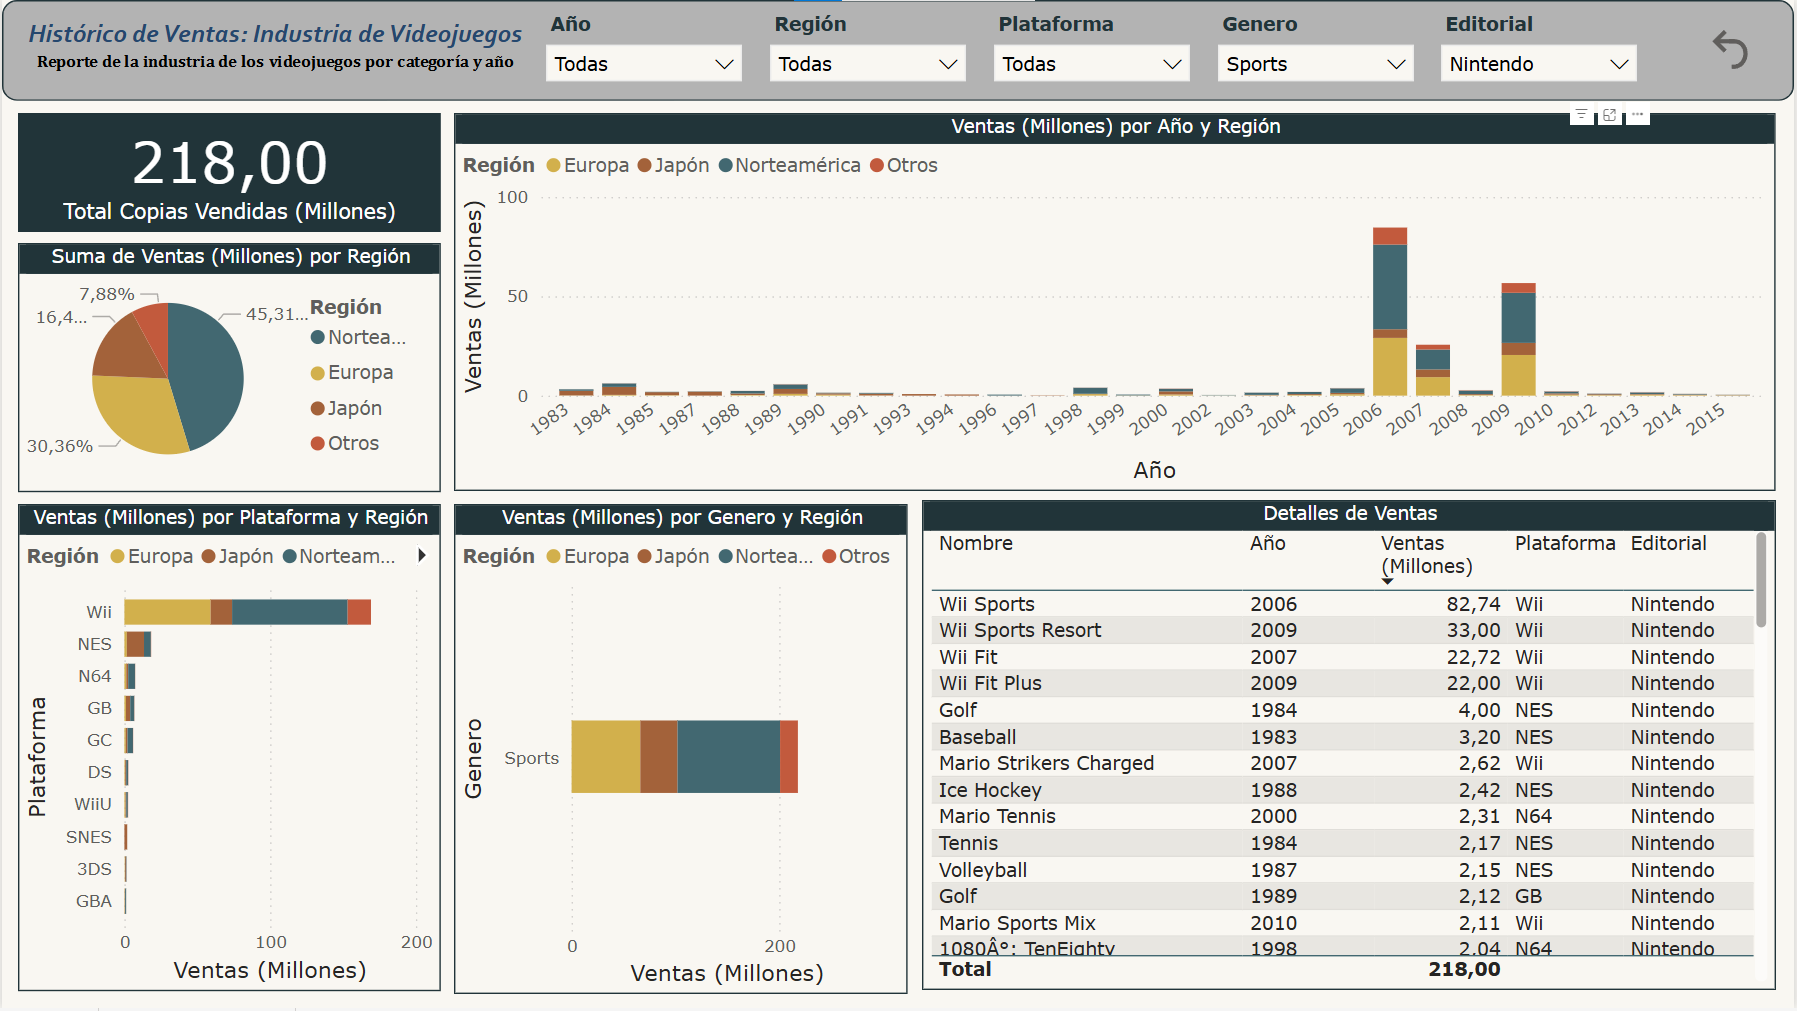

The page's visual inventory and layout, read from the dashboard file:
{"tool":"powerbi","page":{"name":"Análisis Ventas","canvas":[1280,720],"ordinal":0},"visuals":[{"type":"shape","box":[0,0,1280,72],"z":0},{"type":"tableEx","title":"Detalles de Ventas","fields":{"Values":["Ventas Videojuegos.Nombre","Ventas Videojuegos.Año","Sum(Ventas Videojuegos.Ventas (Millones))","Ventas Videojuegos.Plataforma","Ventas Videojuegos.Editorial"]},"box":[656.9,357.3,609.8,350.2],"z":1000},{"type":"columnChart","fields":{"Y":["Sum(Ventas Videojuegos.Ventas (Millones))"],"Category":["Ventas Videojuegos.Año"],"Series":["Ventas Videojuegos.Región"]},"box":[322.7,80.9,944,270.2],"z":2000},{"type":"pieChart","fields":{"Category":["Ventas Videojuegos.Región"],"Y":["Sum(Ventas Videojuegos.Ventas (Millones))"]},"box":[11.6,173.3,302.2,177.8],"z":3000},{"type":"barChart","fields":{"Y":["Sum(Ventas Videojuegos.Ventas (Millones))"],"Series":["Ventas Videojuegos.Región"],"Category":["Ventas Videojuegos.Plataforma"]},"box":[11.6,360,302.2,347.6],"z":4000},{"type":"barChart","fields":{"Y":["Sum(Ventas Videojuegos.Ventas (Millones))"],"Series":["Ventas Videojuegos.Región"],"Category":["Ventas Videojuegos.Genero"]},"box":[322.7,360,324.4,350.2],"z":5000},{"type":"card","title":"Ventas Totales (Millones)","fields":{"Values":["Sum(Ventas Videojuegos.Ventas (Millones))"]},"box":[11.6,80.9,302.2,85.3],"z":6000},{"type":"slicer","fields":{"Values":["Ventas Videojuegos.Año"]},"box":[378.9,0,160,71.8],"z":7000},{"type":"slicer","fields":{"Values":["Ventas Videojuegos.Editorial"]},"box":[1018.1,0,160,71.8],"z":8000},{"type":"slicer","fields":{"Values":["Ventas Videojuegos.Plataforma"]},"box":[698.5,0,160,71.8],"z":9000},{"type":"slicer","fields":{"Values":["Ventas Videojuegos.Genero"]},"box":[858.3,0,160,71.8],"z":10000},{"type":"slicer","fields":{"Values":["Ventas Videojuegos.Región"]},"box":[538.7,0,159.8,71.8],"z":11000},{"type":"textbox","box":[11.7,7.2,367.2,57.5],"z":12000},{"type":"actionButton","box":[1215.6,14.4,37.7,42.2],"z":13000}]}

Visuals, with their boxes in screenshot pixels (x1, y1, x2, y2), scaled from the page's 1280x720 canvas onto the 1797x1011 screenshot:
shape: (x1=0, y1=0, x2=1796, y2=101)
"Detalles de Ventas" tableEx: (x1=922, y1=502, x2=1778, y2=993)
columnChart - Sum(Ventas Videojuegos.Ventas (Millones)) x Ventas Videojuegos.Año: (x1=453, y1=114, x2=1778, y2=493)
pieChart - Ventas Videojuegos.Región x Sum(Ventas Videojuegos.Ventas (Millones)): (x1=16, y1=243, x2=441, y2=493)
barChart - Sum(Ventas Videojuegos.Ventas (Millones)) x Ventas Videojuegos.Región: (x1=16, y1=505, x2=441, y2=994)
barChart - Sum(Ventas Videojuegos.Ventas (Millones)) x Ventas Videojuegos.Región: (x1=453, y1=505, x2=908, y2=997)
"Ventas Totales (Millones)" card: (x1=16, y1=114, x2=441, y2=233)
slicer - Ventas Videojuegos.Año: (x1=532, y1=0, x2=757, y2=101)
slicer - Ventas Videojuegos.Editorial: (x1=1429, y1=0, x2=1654, y2=101)
slicer - Ventas Videojuegos.Plataforma: (x1=981, y1=0, x2=1205, y2=101)
slicer - Ventas Videojuegos.Genero: (x1=1205, y1=0, x2=1430, y2=101)
slicer - Ventas Videojuegos.Región: (x1=756, y1=0, x2=981, y2=101)
textbox: (x1=16, y1=10, x2=532, y2=91)
actionButton: (x1=1707, y1=20, x2=1760, y2=79)
